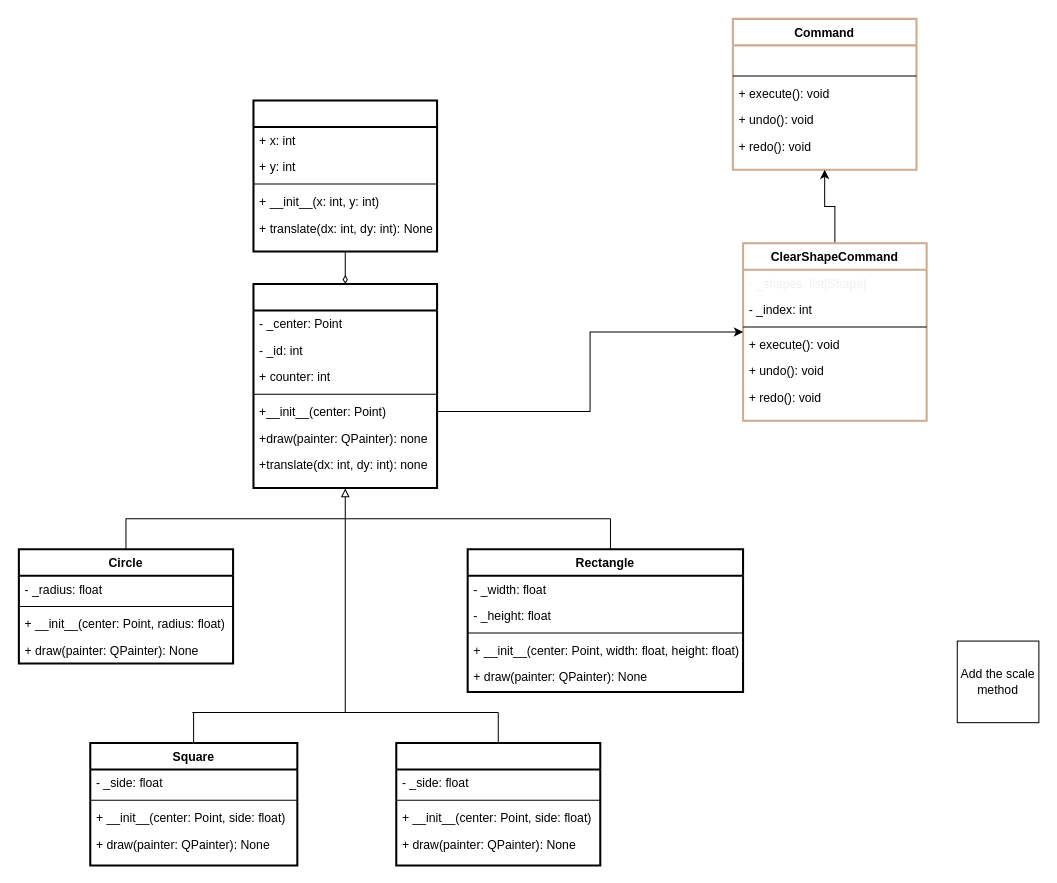
This 1057x883 diagram has some shape labels left out. Here are the shapes that lost their labels. From the top down, the box of each, then its label:
(252, 99, 438, 252): Point
(252, 283, 438, 489): Shape
(395, 742, 601, 866): Triangle
